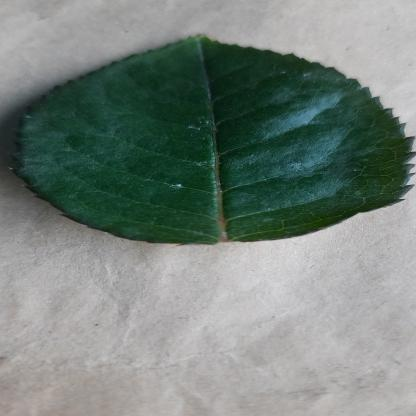normal: (9, 33, 415, 245)
